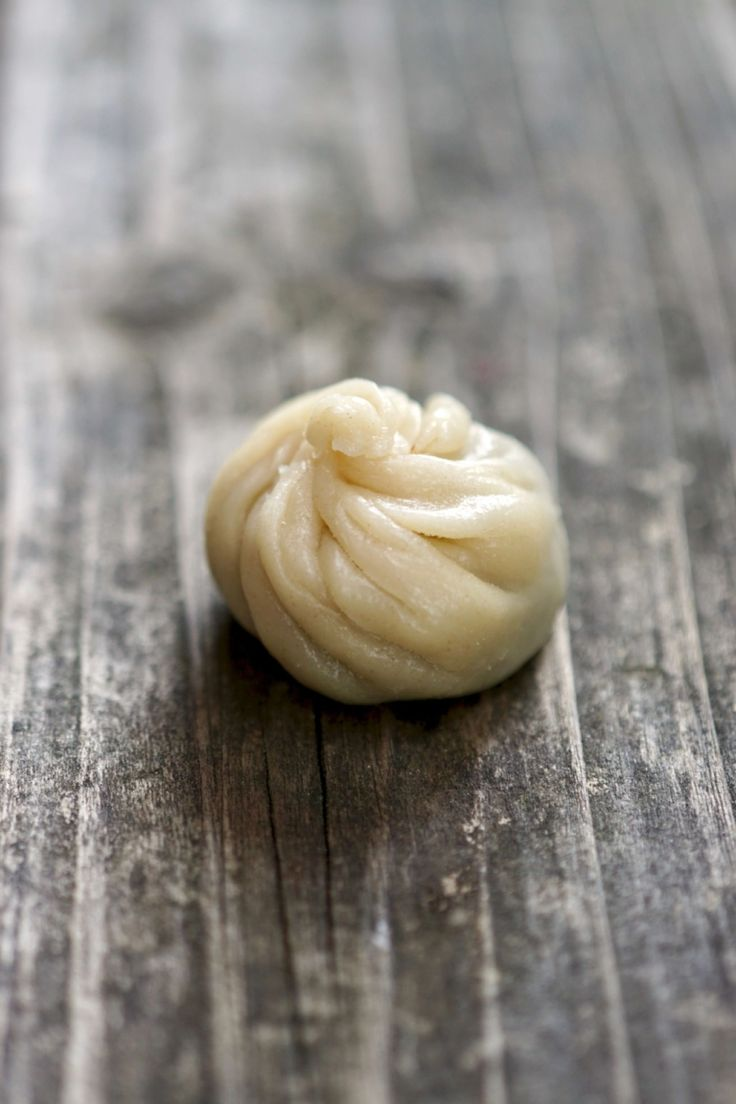momo: (215, 375, 578, 710)
